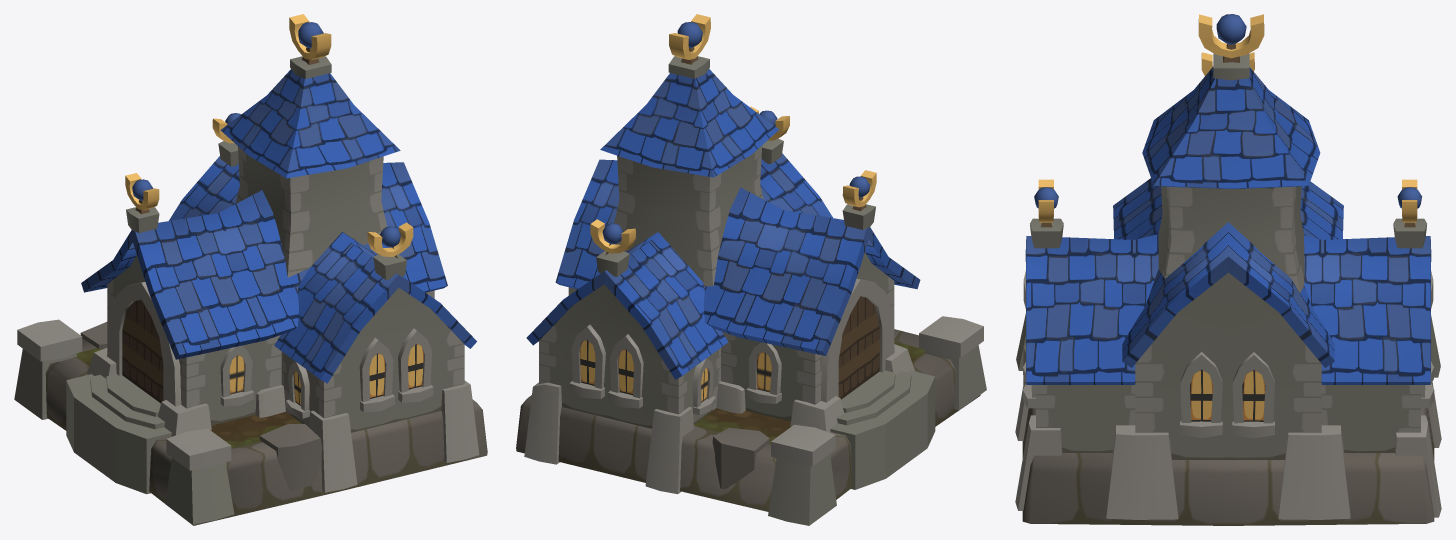
File: Temple.FBX
3 renders of one model, left to right at view 1: azimuth 30°, elevation 25°; view 2: azimuth 150°, elevation 25°; view 3: azimuth 270°, elevation 25°, orthographic. The views are drawn at different scales.
Visible parts, largest first — view 1: Temple; view 2: Temple; view 3: Temple.
Part boxes in pixels (bbox=[...]): Temple: bbox=[14, 14, 487, 525]; Temple: bbox=[516, 14, 986, 525]; Temple: bbox=[1015, 14, 1441, 525].
Size of the model in its own units: 655 by 776 by 654.
